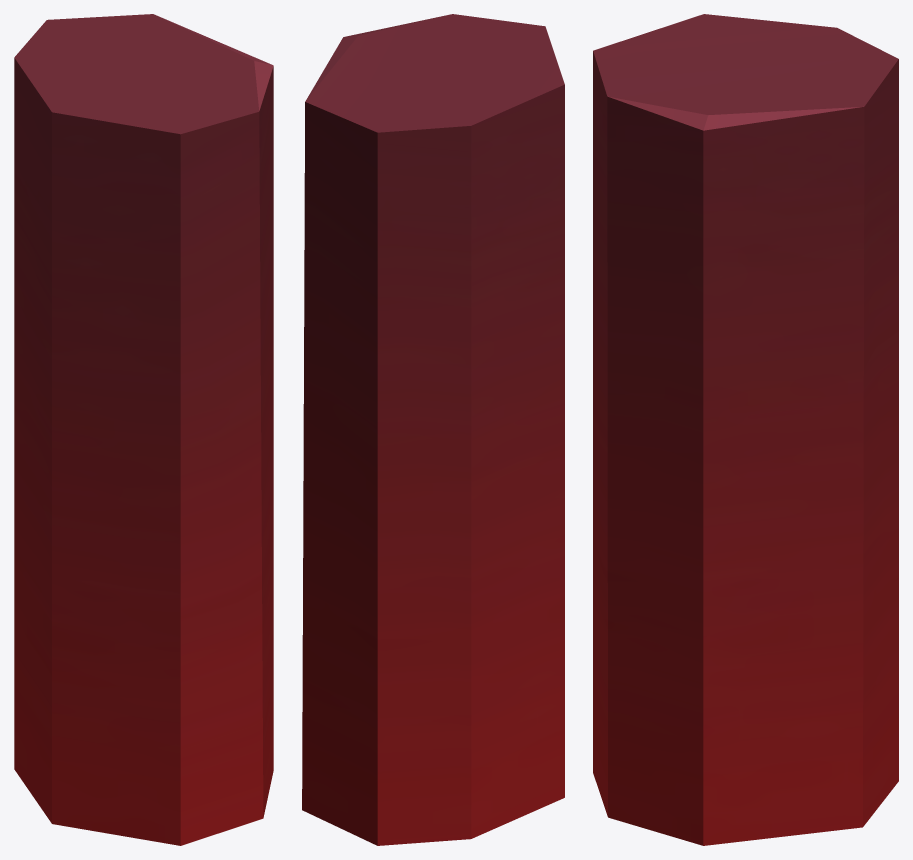
Rendered from stone_002.fbx.
The picture shows the model from 3 angles, left to right: view 1: azimuth 30°, elevation 25°; view 2: azimuth 150°, elevation 25°; view 3: azimuth 270°, elevation 25°; orthographic projection.
Parts seen in each view (by area): view 1: stone_002; view 2: stone_002; view 3: stone_002.
Part boxes in pixels (x1,y1,x2,y2): stone_002: (14, 14, 273, 845); stone_002: (302, 14, 564, 845); stone_002: (593, 14, 898, 845).
Size of the model in its own units: 131 by 402 by 154.
